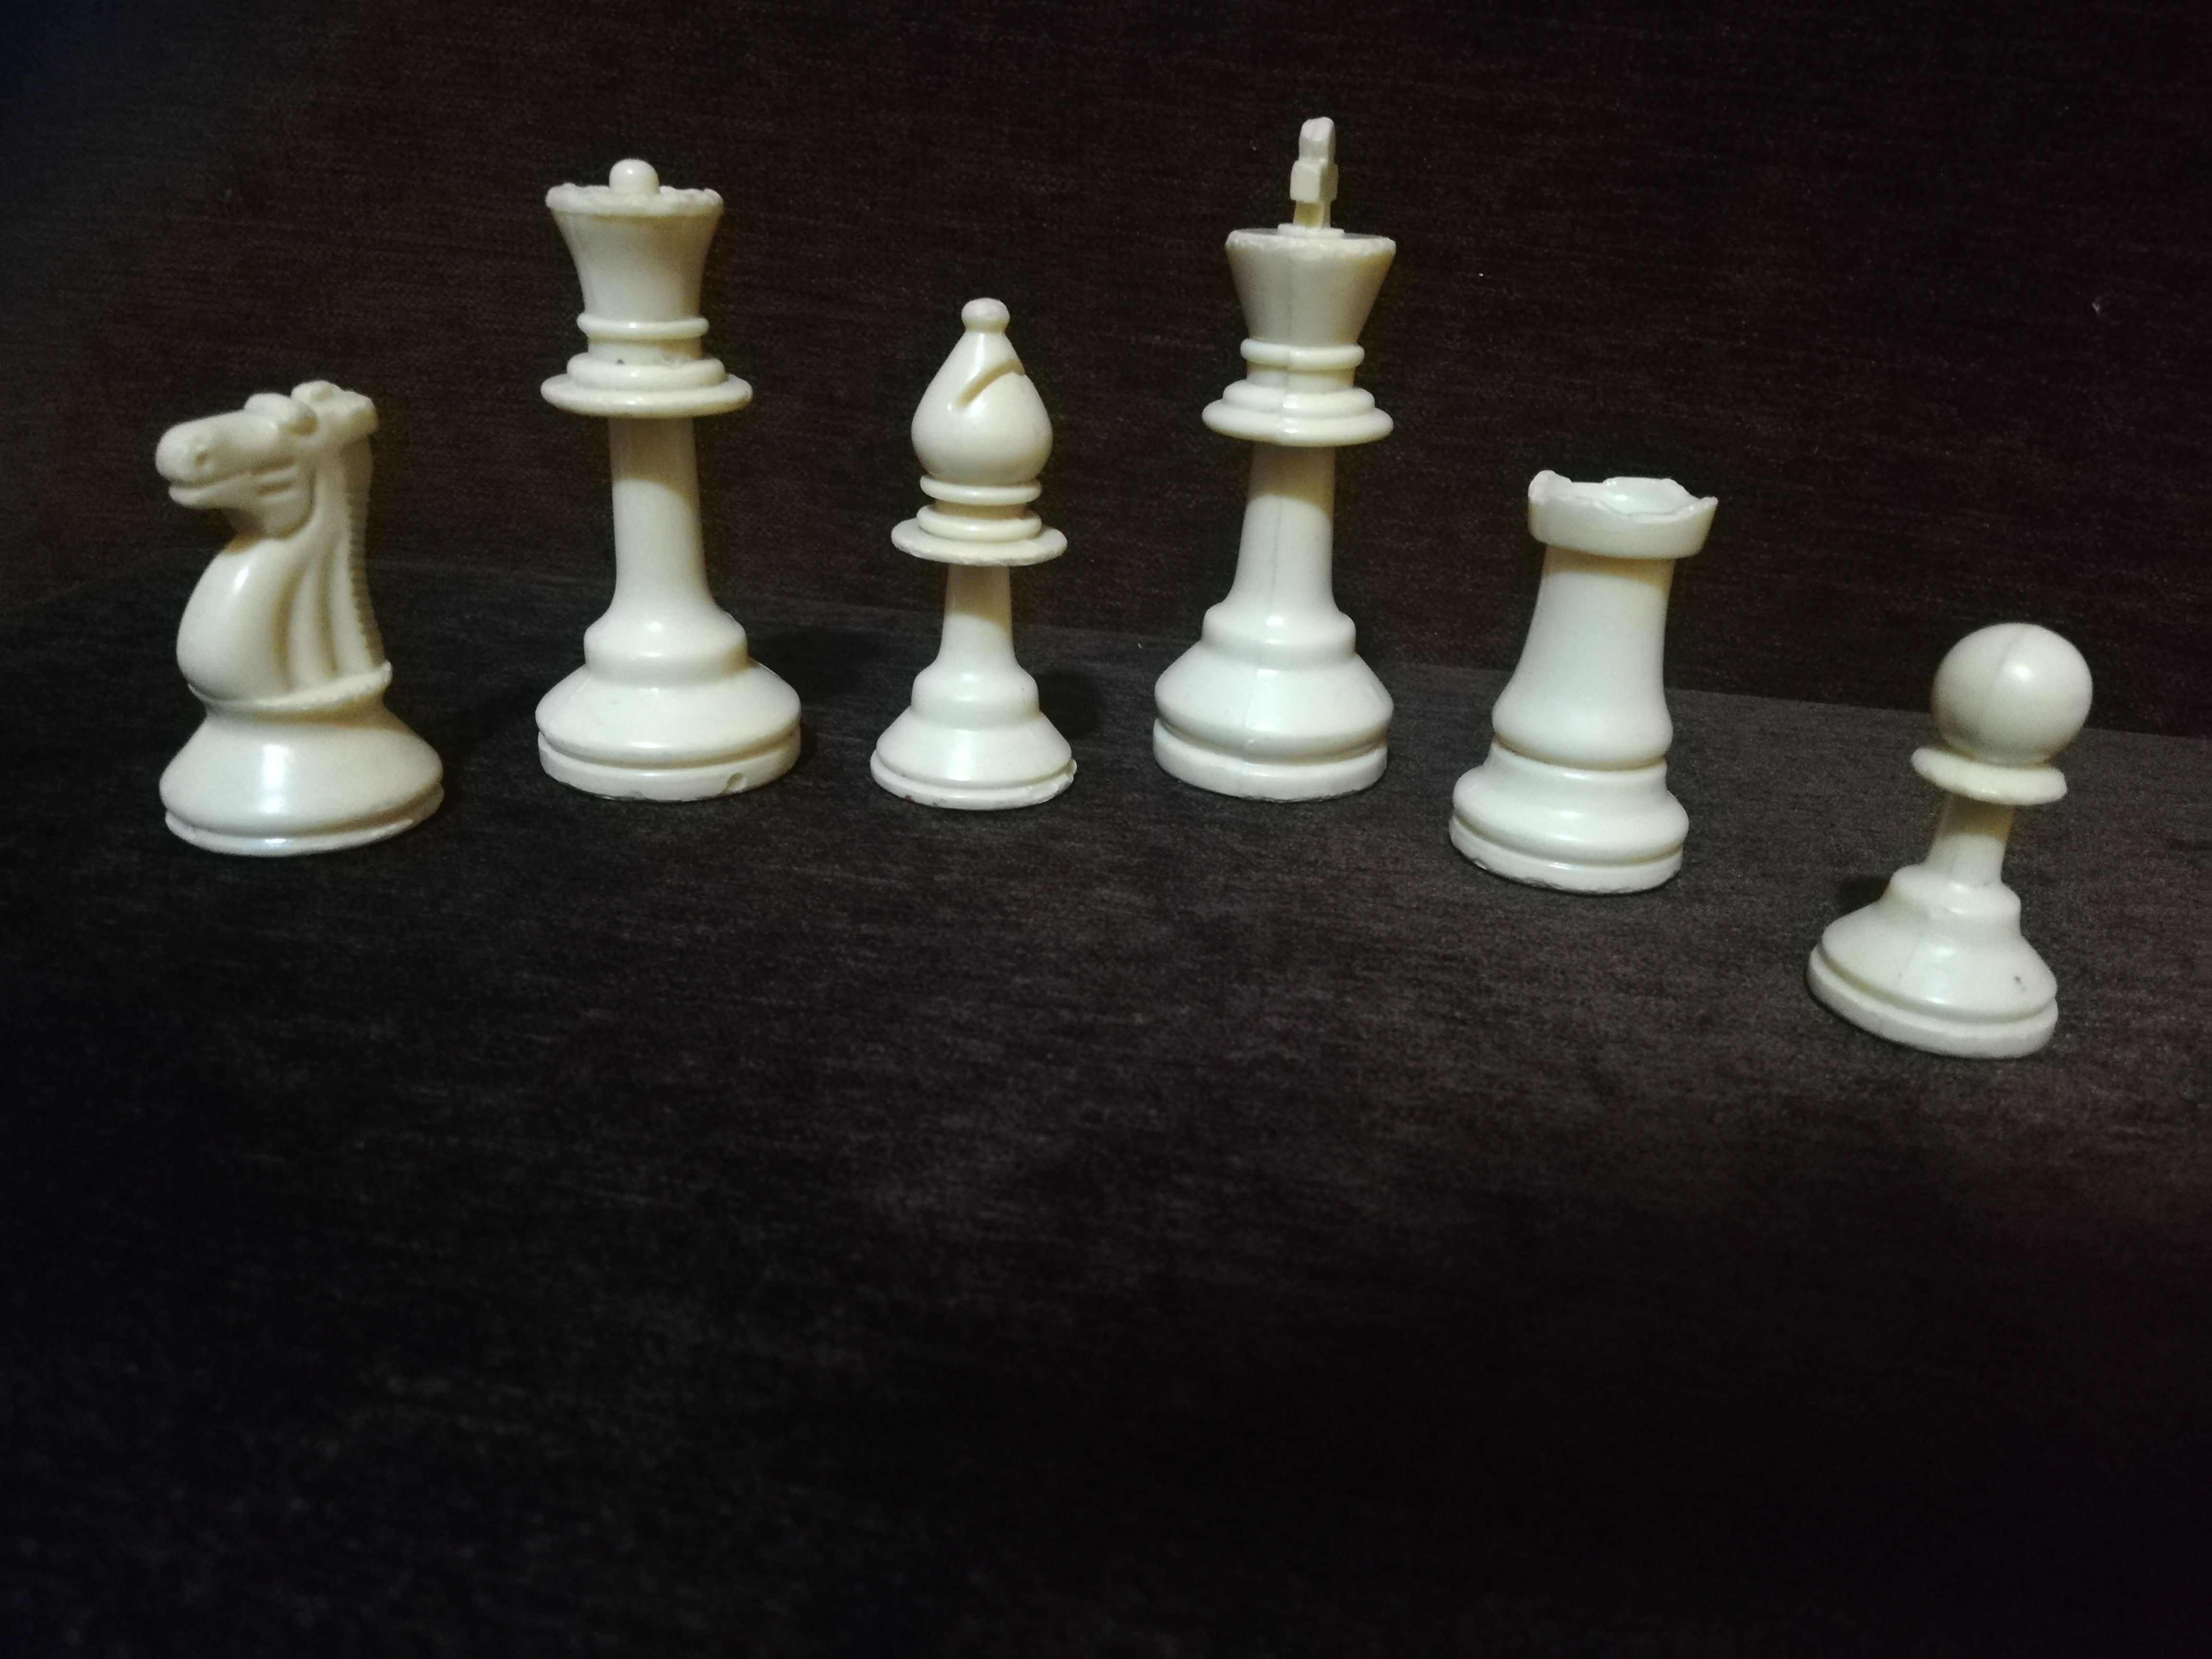Bishop: (897, 280, 1078, 797)
King: (1147, 106, 1393, 788)
Knight: (143, 380, 463, 849)
Pawn: (1800, 596, 2074, 1058)
Queen: (515, 145, 818, 788)
Rook: (1448, 461, 1692, 890)
